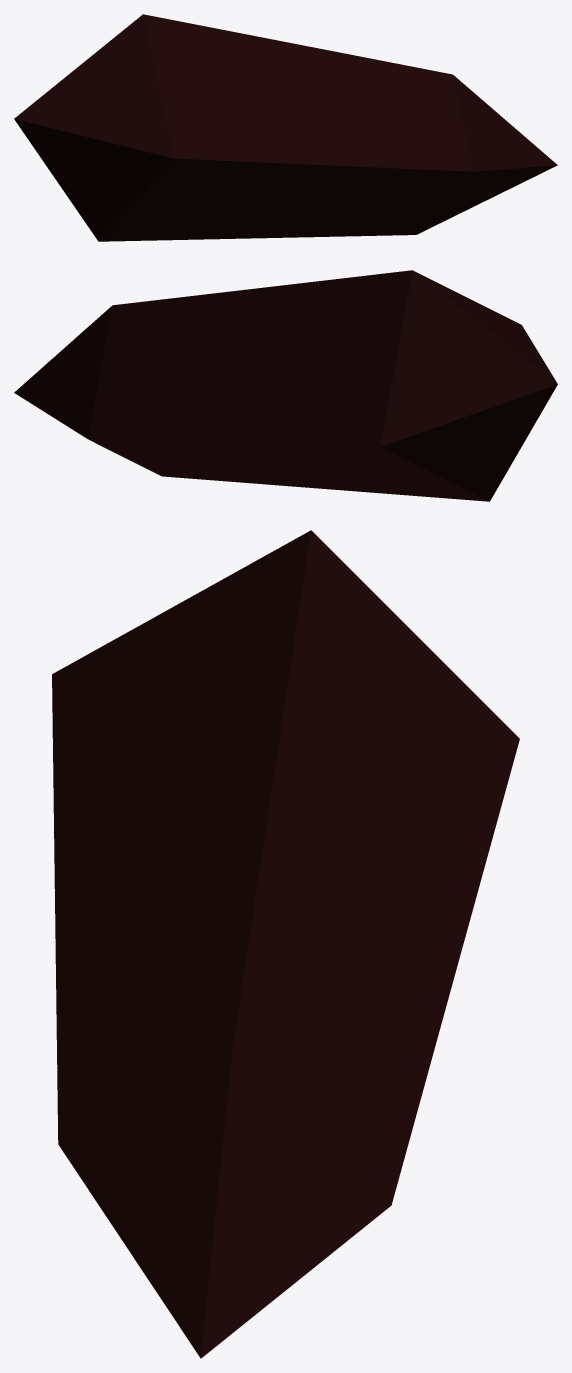
The model's file is right_leg_lower.obj.
3 renders of one model, top to bottom at view 1: azimuth 30°, elevation 25°; view 2: azimuth 150°, elevation 25°; view 3: azimuth 270°, elevation 25°, orthographic. The views are drawn at different scales.
Visible parts, largest first — view 1: right_leg_lower; view 2: right_leg_lower; view 3: right_leg_lower.
Boxes of the visible parts, bbox=[...] form: right_leg_lower: bbox=[14, 14, 557, 241]; right_leg_lower: bbox=[14, 270, 557, 501]; right_leg_lower: bbox=[52, 530, 519, 1358].
Bounding box in the file's own units: 1.6 × 0.7806 × 0.6261.
